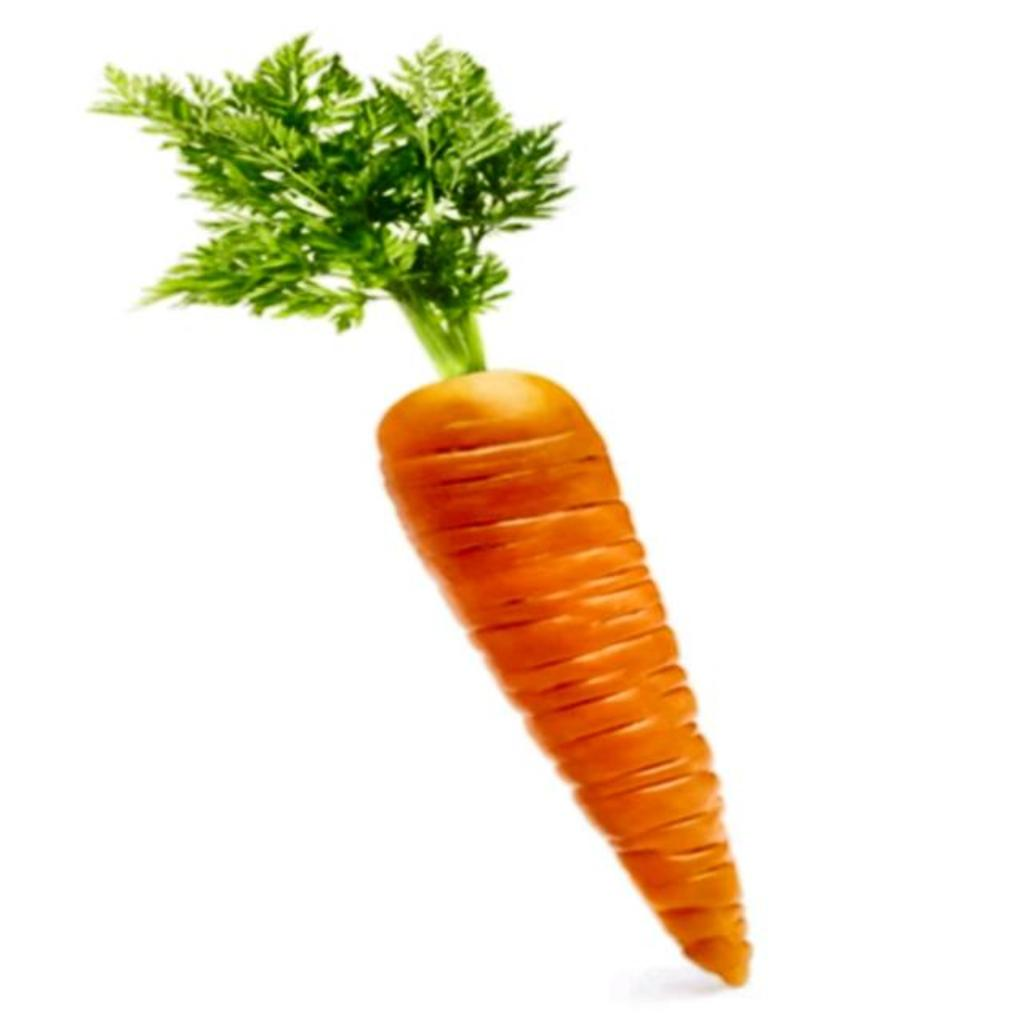carrot: (98, 36, 752, 986)
